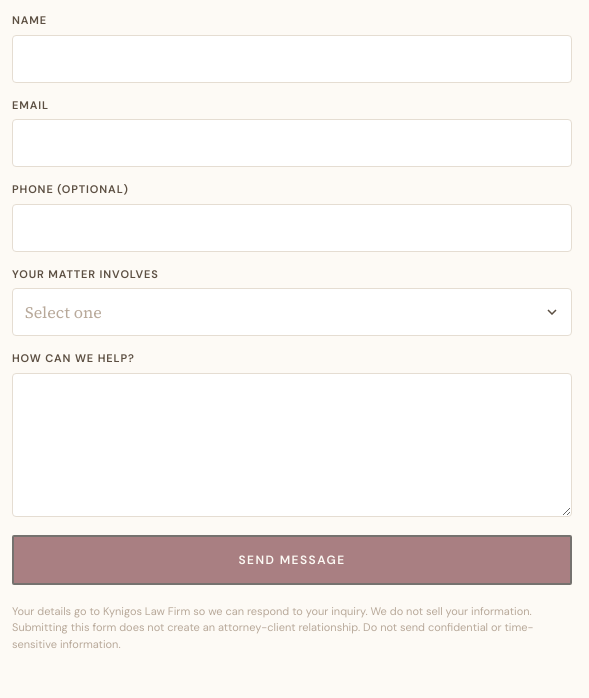
Test: ContactForm › shows the server's fallback error when delivery fails
Type "Test Person" into the field labelled "Name".
click(292, 58); type("Test Person")  # box [12,34,572,82]
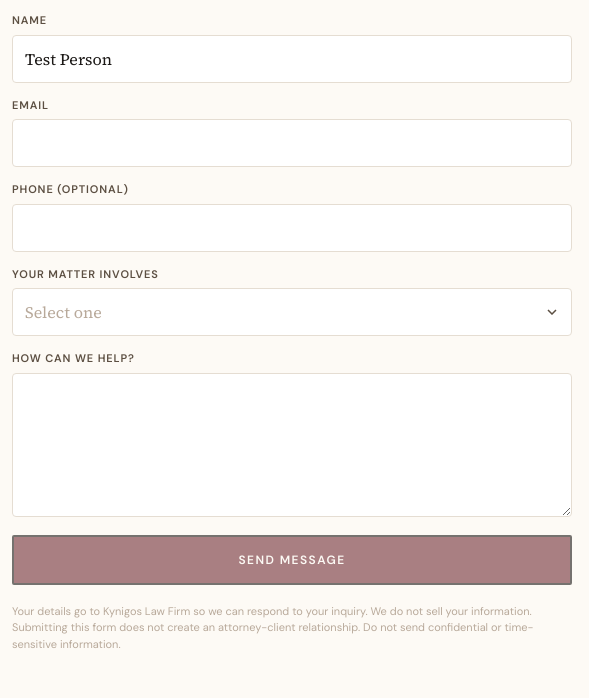
Type "test@example.com" into the field labelled "Email".
click(292, 143); type("test@example.com")  # box [12,119,572,167]
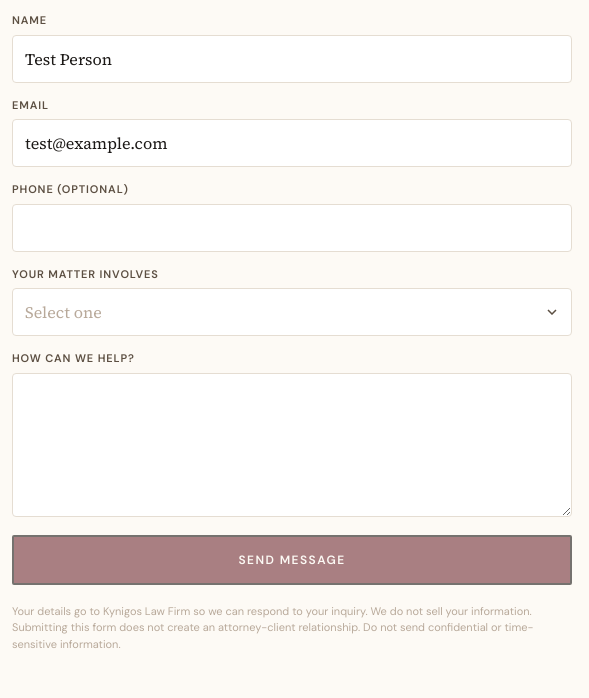
Select "District of Columbia law" in the dropdown labelled "Your matter involves" at (292,312), box [12,288,572,336]
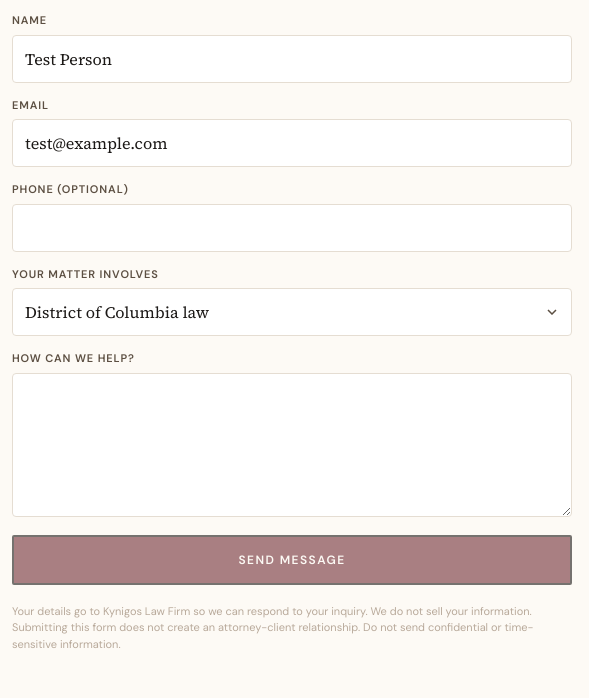
Type "A DC matter." into the text box labelled "How can we help?".
click(292, 444); type("A DC matter.")  # box [12,372,572,516]
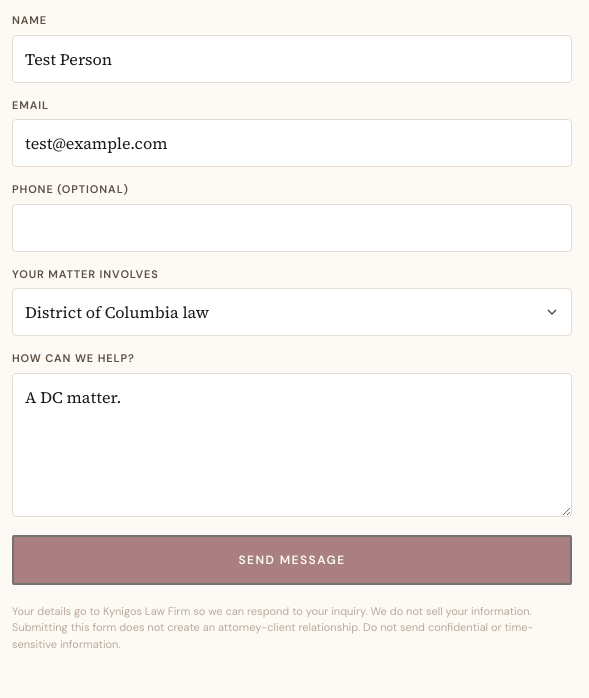
Submit the form
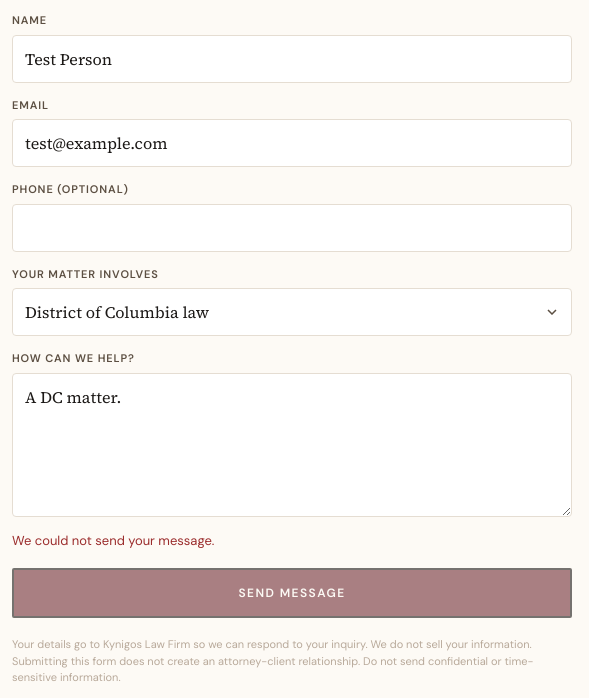
Now the message shows "could not send", box [12,532,214,548]
